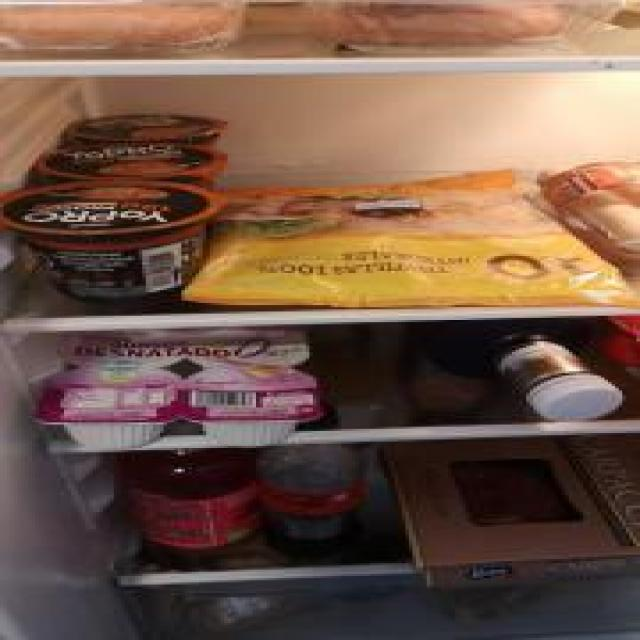sausage: (526, 155, 640, 259)
tortillas: (178, 168, 640, 312)
